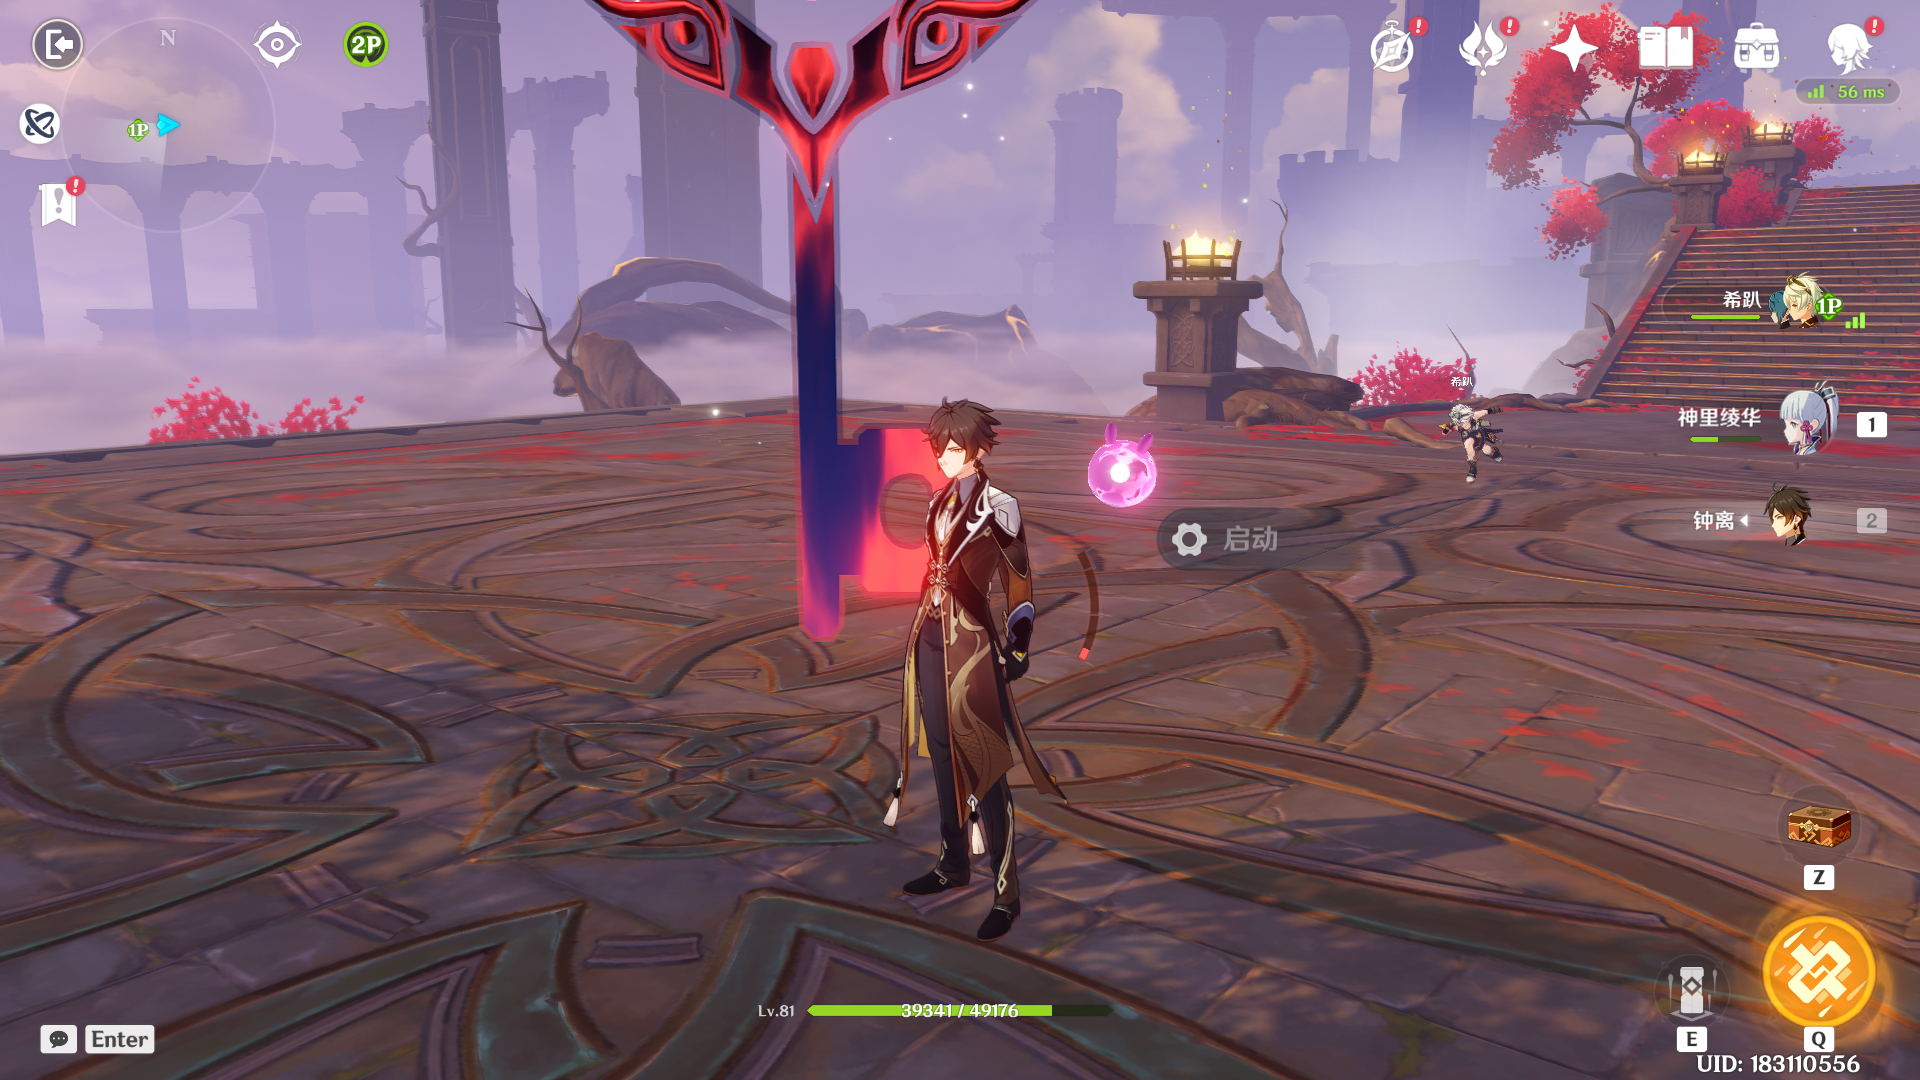character: (798, 356, 1122, 982)
